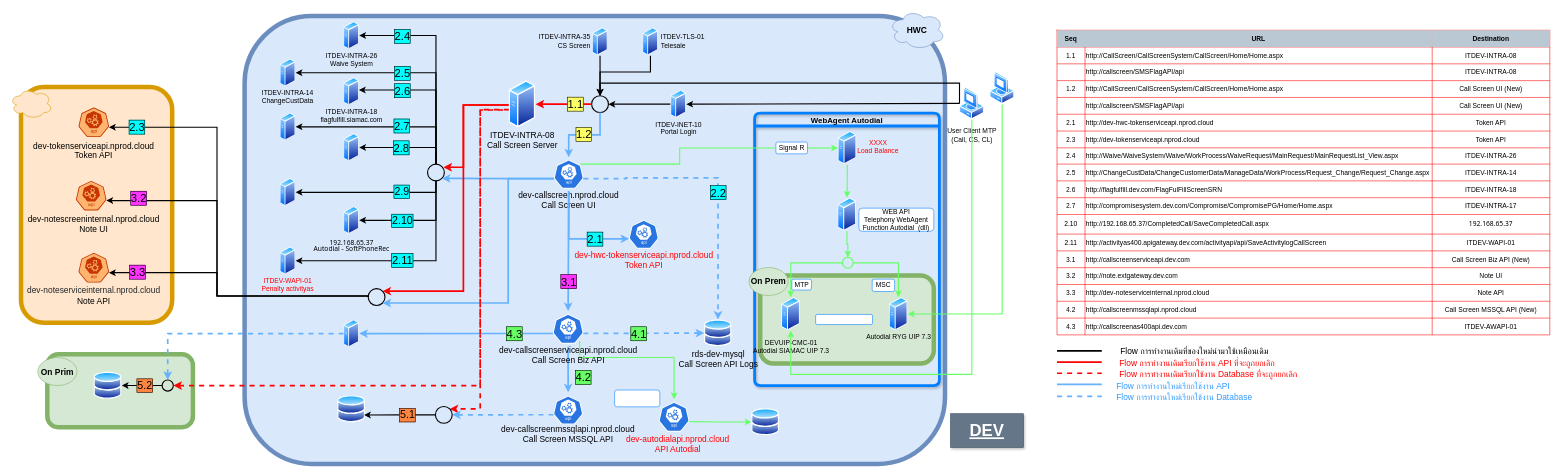
The diagram is 1560 pixels wide and 476 high, and some of its shapes have lost their labels. Each missing label, with the centre of its shape:
"10.177.1.10, 192.168.65.31, 192.168.65.32 Autodial - SoftPhoneIP" belongs at point 287,192.
"AWS" belongs at point 30,103.
"Customize Function" belongs at point 637,398.
"D104KPLM AS400" belongs at point 108,385.
"DLL Telephony" belongs at point 843,319.
"ITDEV-APC-01, DEVUIP-CMC-01 Autodial - DomainName" belongs at point 351,147.
"ITDEV-AWAPI-02 Call Screen AS400 API" belongs at point 351,333.
"ITDEV-DBS-01 MSSQL" belongs at point 351,408.
"ITDEV-INTRA-17 Compromise" belongs at point 287,127.
"ITDEV-WAG-CAL01 WebAgent(Aspect)" belongs at point 846,214.
"User Client MSC (Call, CS, CL)" belongs at point 1002,88.
"XXXX" belongs at point 765,421.
